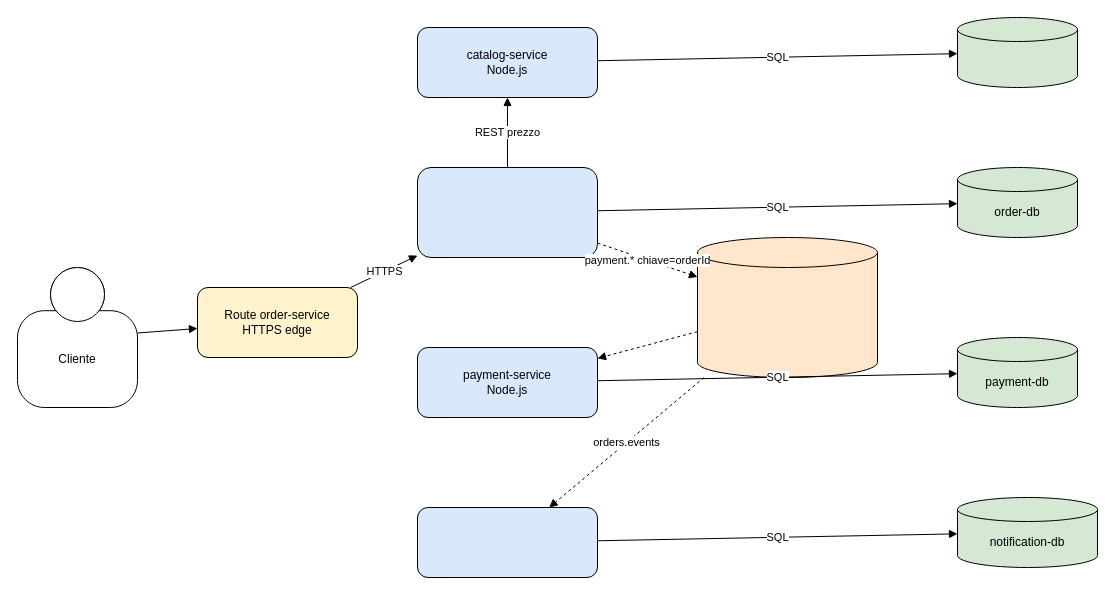
Some shapes in this 1115 by 595 pixel diagram are drawn without their labels. Each missing label, with the centre of its shape:
catalog-db: (1017,52)
Kafka orders.events payment.commands payment.events: (787,307)
notification-service Node.js: (507,542)
order-service Node.js saga + outbox: (507,212)
